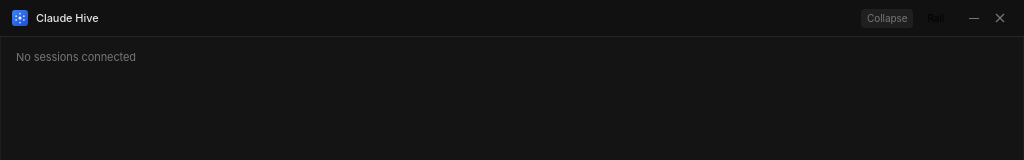
collapse button while the usage breakdown is open › collapses in a single press by closing the panel
Step 1. Click the button "Collapse" → [887, 18], box top-left (861, 8), bottom-right (914, 28)
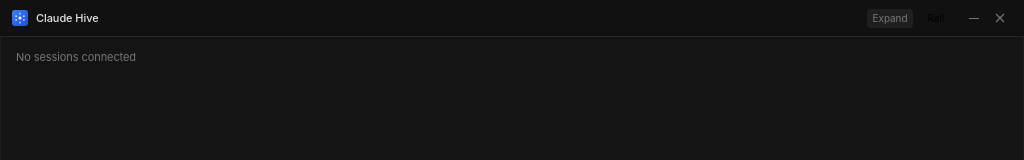
Expected: the button "Expand" is shown, top-left (867, 8), bottom-right (914, 28)
